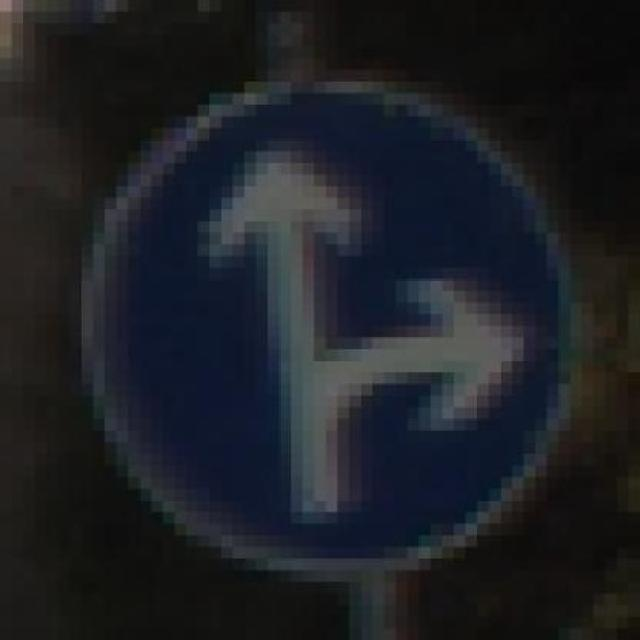Go Straight or Turn Right: (58, 69, 594, 594)
